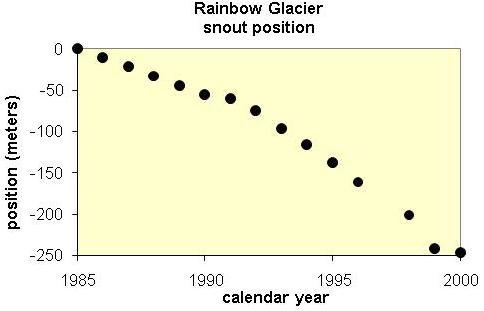axis: (75, 251, 453, 266), (70, 56, 83, 260)
point: (274, 120, 290, 136), (247, 103, 264, 118), (121, 59, 136, 74), (146, 68, 161, 83), (197, 87, 212, 102), (223, 91, 238, 106), (172, 77, 186, 93), (300, 136, 314, 152), (326, 154, 340, 170), (351, 175, 366, 189), (403, 207, 417, 222), (427, 241, 442, 255), (453, 246, 468, 260), (71, 42, 85, 56), (95, 51, 110, 64)
